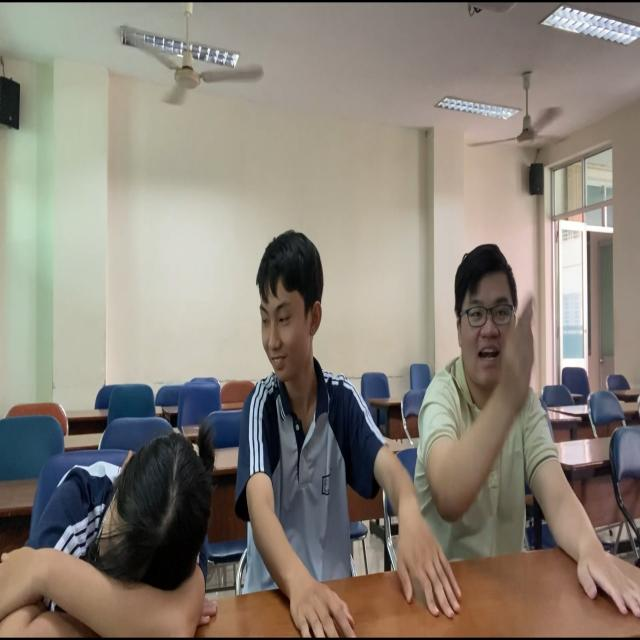raise_hand: (406, 224, 571, 525)
sleep: (1, 415, 230, 640)
